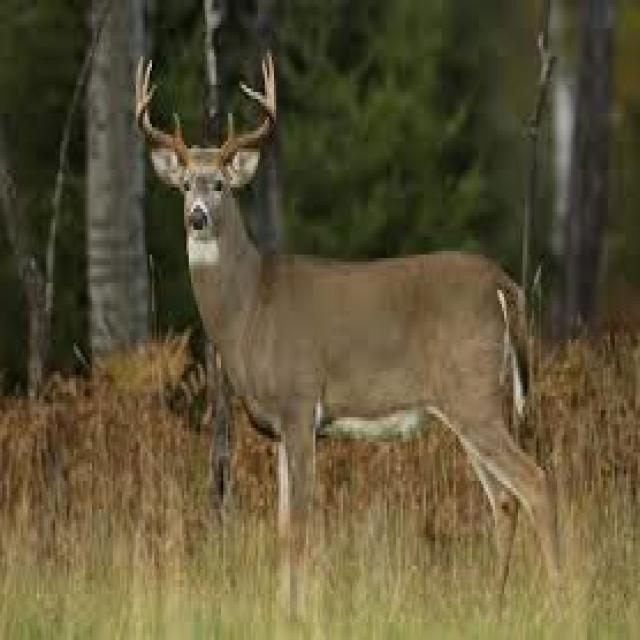deer: (136, 53, 550, 562)
